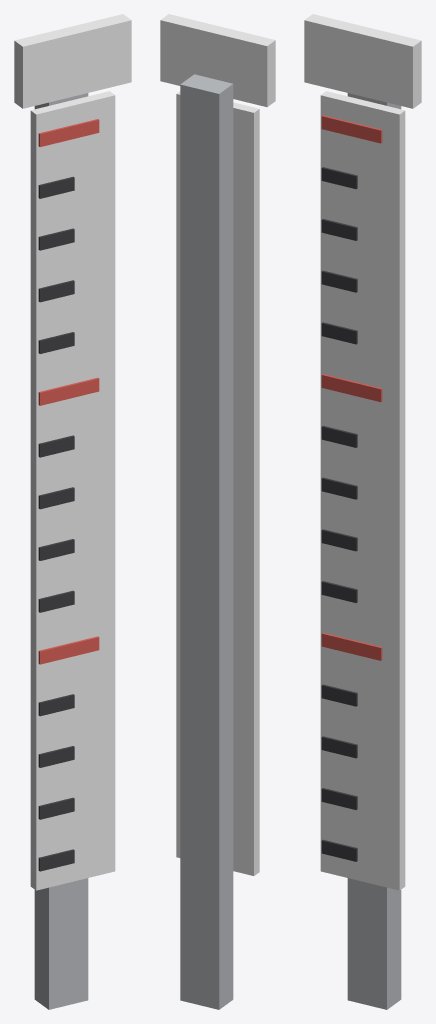
File: staff-gauge-board.glb
The picture shows the model from 3 angles, left to right: view 1: azimuth 30°, elevation 25°; view 2: azimuth 150°, elevation 25°; view 3: azimuth 330°, elevation 25°; orthographic projection.
Parts seen in each view (by area): view 1: staff-gauge-board; view 2: staff-gauge-board; view 3: staff-gauge-board.
Part boxes in pixels (x1,y1,x2,y2): staff-gauge-board: (14,14,131,1009); staff-gauge-board: (160,14,275,1009); staff-gauge-board: (304,14,421,1009).
Bounding box in the file's own units: 0.22 × 1.89 × 0.08.
